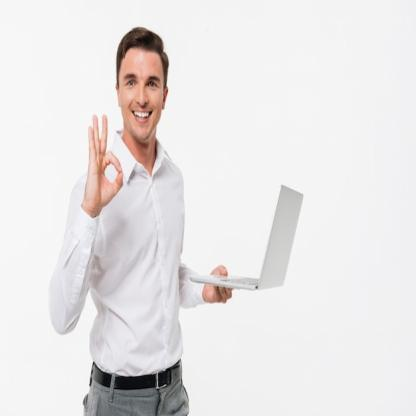ok: (83, 109, 125, 217)
